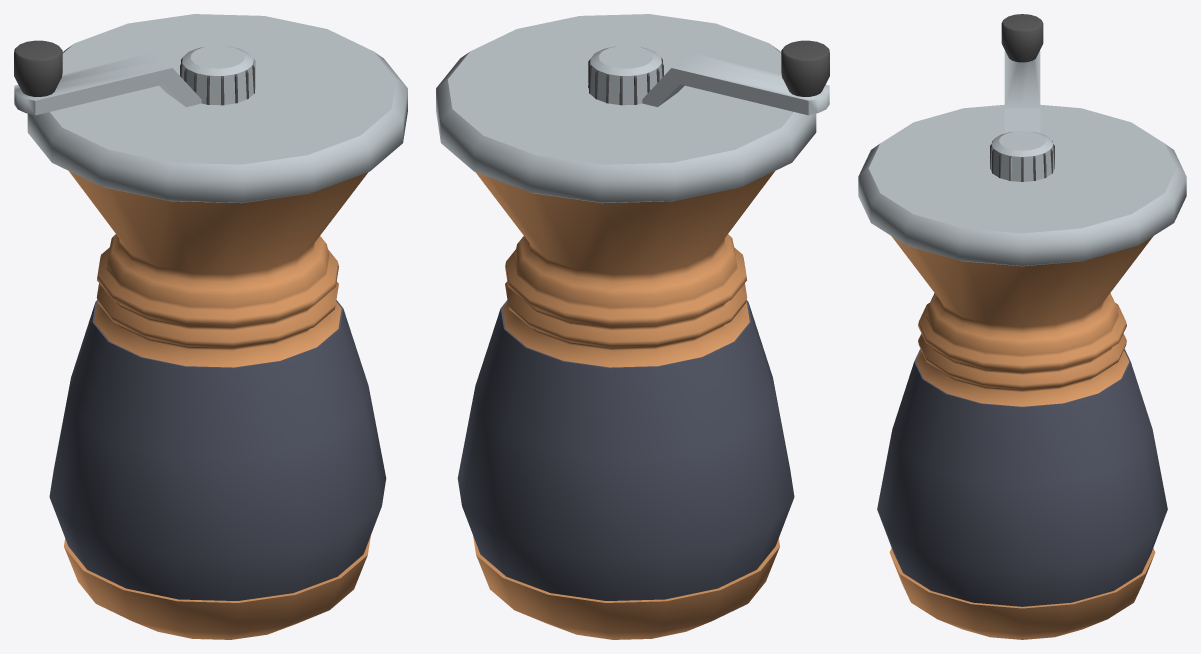
The model's file is coffee_grinder.fbx.
The picture shows the model from 3 angles, left to right: view 1: azimuth 30°, elevation 25°; view 2: azimuth 150°, elevation 25°; view 3: azimuth 270°, elevation 25°; orthographic projection. The views are drawn at different scales.
Visible parts, largest first — view 1: CoffeeGrinder; view 2: CoffeeGrinder; view 3: CoffeeGrinder.
Part boxes in pixels (x1,y1,x2,y2): CoffeeGrinder: [14, 14, 407, 639]; CoffeeGrinder: [436, 14, 829, 639]; CoffeeGrinder: [858, 14, 1186, 639].
Size of the model in its own units: 747 by 1154 by 676.
